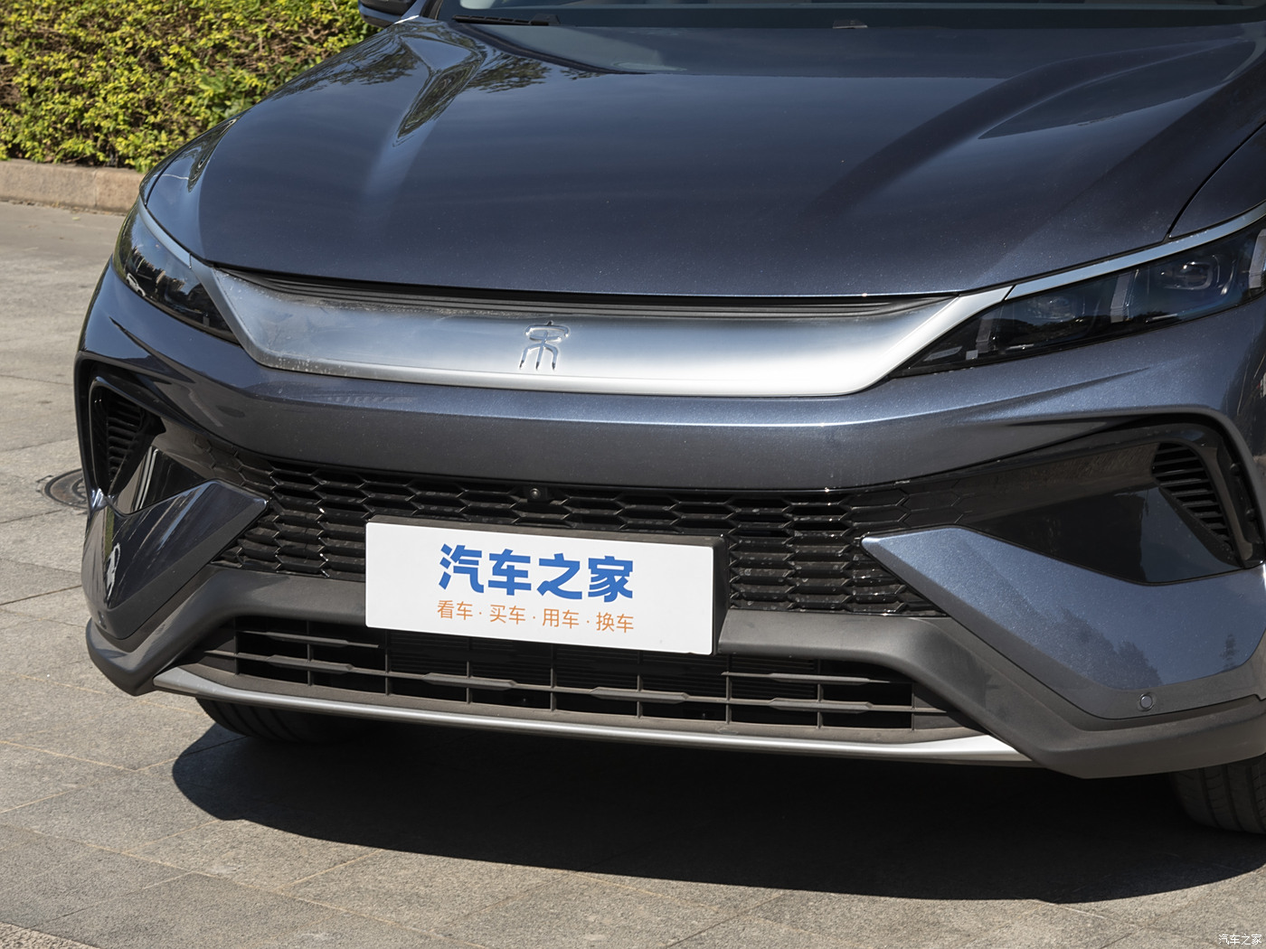BYD Song: (520, 321, 570, 370)
